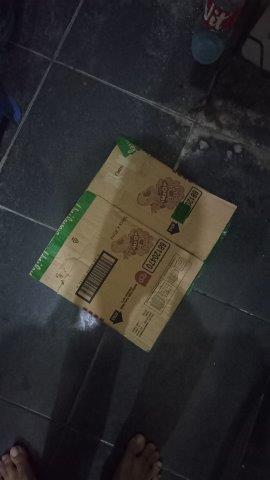kardus: (31, 145, 235, 350)
